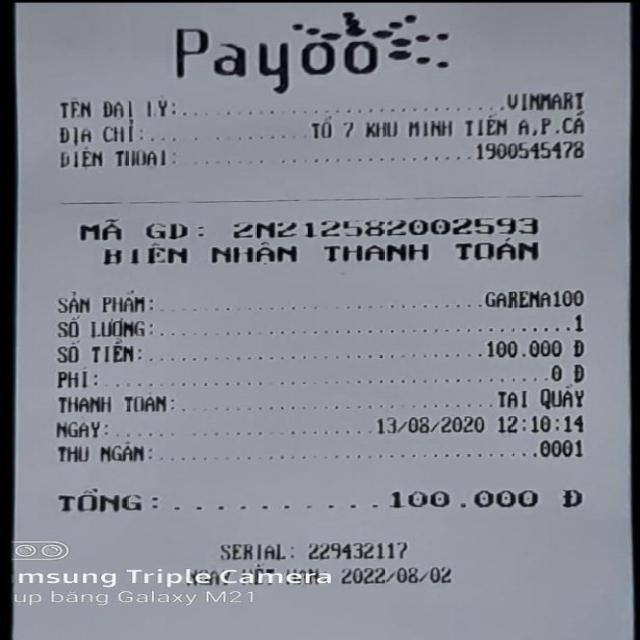Date: (334, 560, 487, 590)
Store_Name: (132, 1, 470, 96)
Total_Amount: (37, 473, 604, 519)
